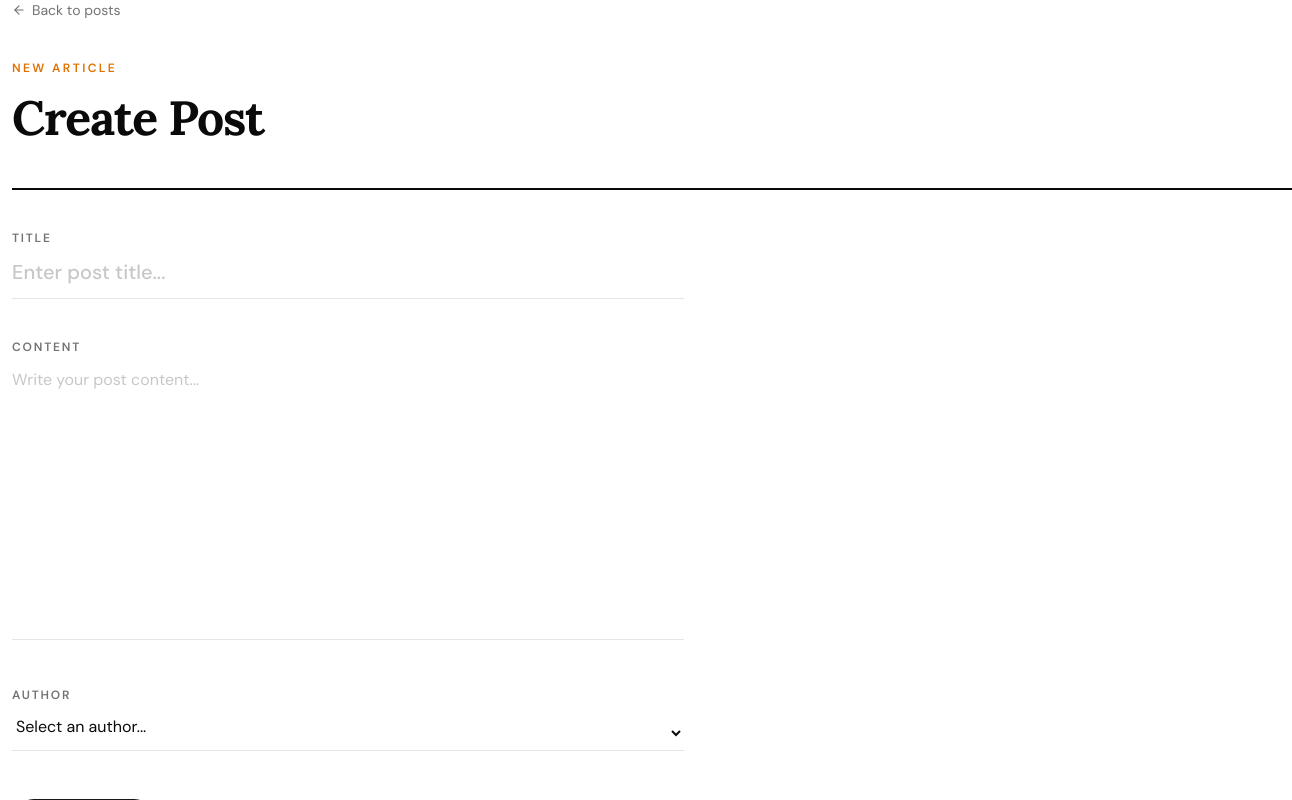
Test: PostForm › create mode › validation › shows an error when the title is shorter than 3 characters
Type "Hi" into the field labelled "Title". click: (348,278)
box: left=12, top=258, right=684, bottom=299
(page scrolled)
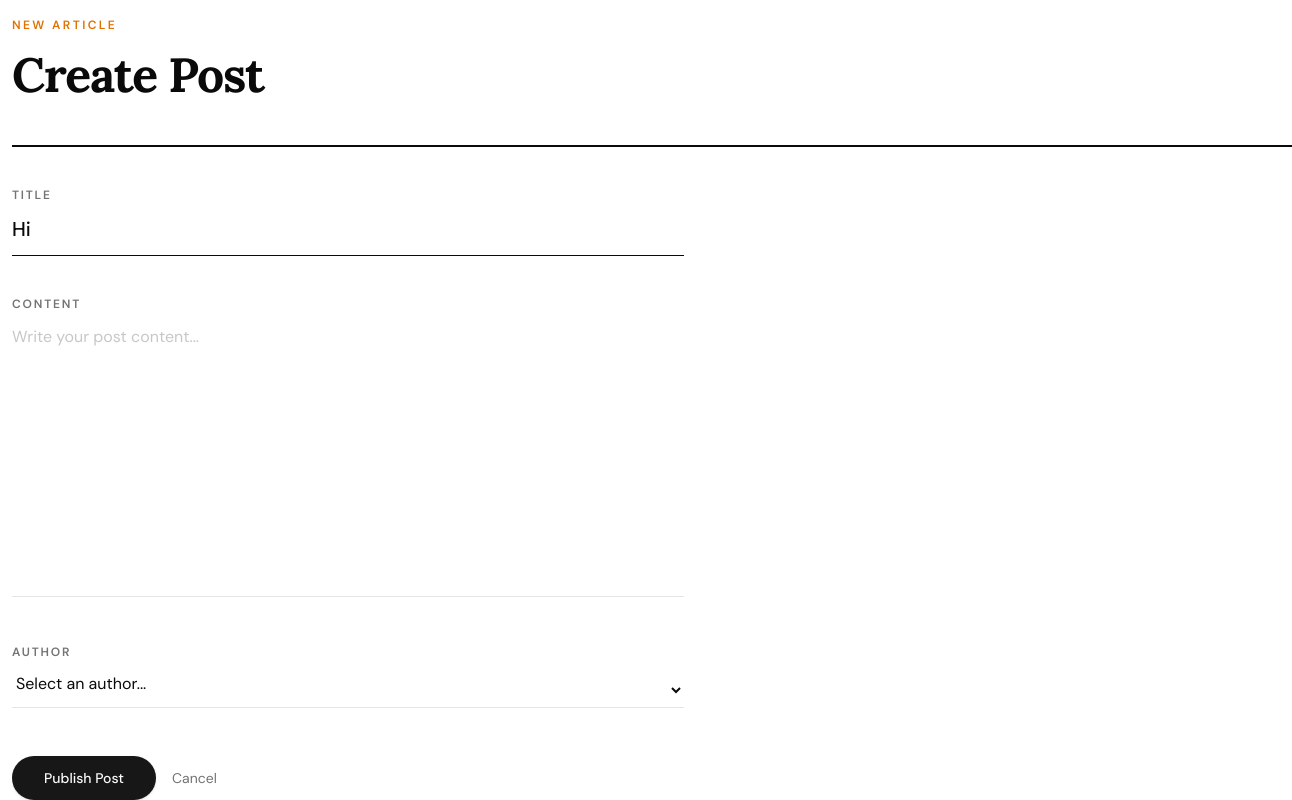
Click the button "Publish Post". click: (84,778)
box: left=12, top=756, right=156, bottom=799
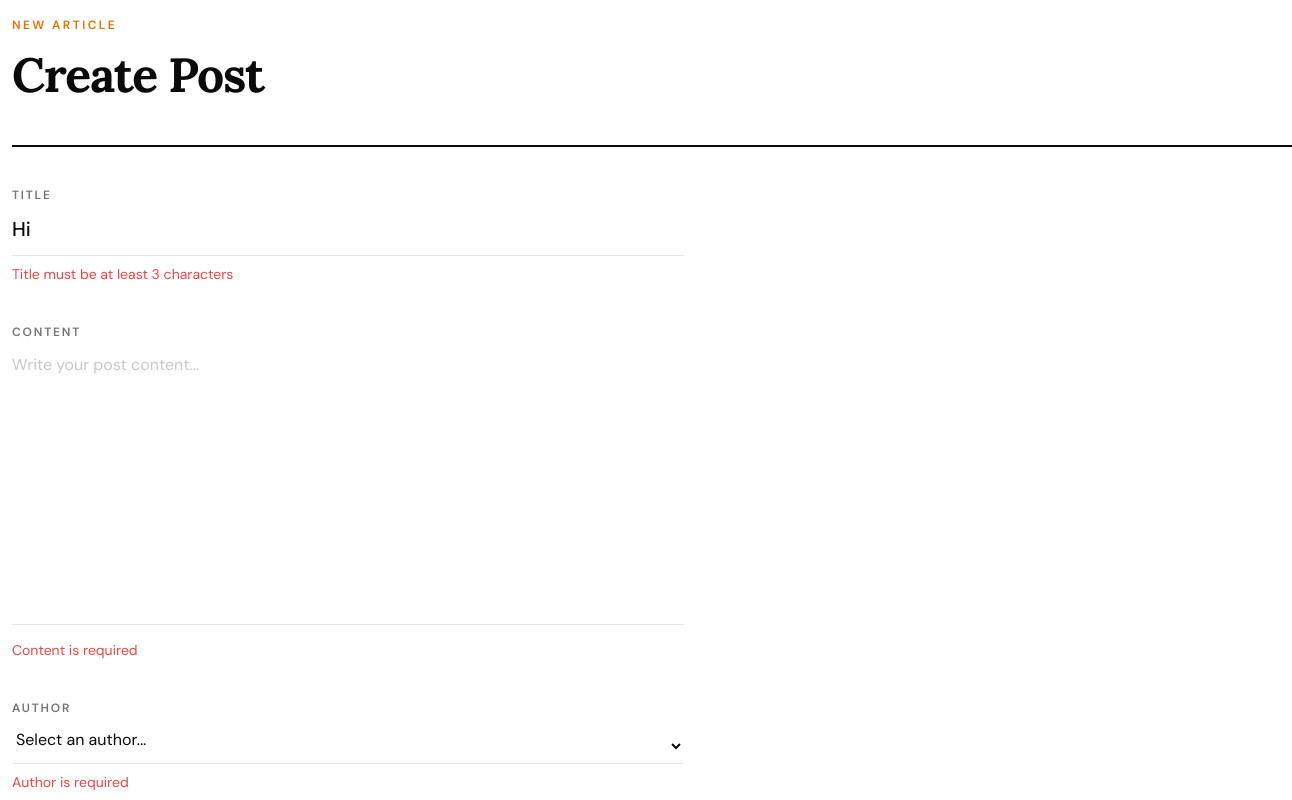
Expected: the text "Title must be at least 3 characters" is shown, left=12, top=265, right=233, bottom=283
